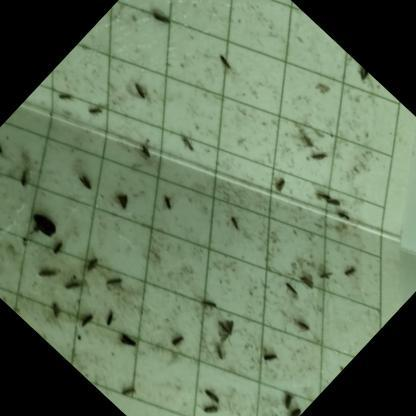prays_oleae: (114, 74, 162, 121), (200, 42, 247, 88), (94, 256, 137, 300), (282, 307, 324, 350), (52, 266, 93, 309), (66, 162, 106, 200), (325, 198, 363, 238), (103, 180, 141, 219), (299, 137, 337, 175), (187, 284, 224, 320), (156, 324, 192, 361), (30, 254, 66, 290), (270, 274, 305, 310), (110, 322, 145, 357), (199, 337, 234, 372), (44, 78, 78, 114), (207, 308, 242, 342), (76, 92, 110, 126), (290, 125, 324, 159), (143, 0, 178, 33), (130, 133, 163, 167), (288, 262, 321, 296), (330, 258, 364, 290), (197, 378, 230, 410), (152, 189, 184, 221), (171, 132, 203, 164), (9, 160, 41, 192), (112, 372, 144, 404), (262, 171, 293, 203), (274, 385, 305, 416), (316, 188, 347, 219), (311, 262, 341, 292), (69, 305, 98, 335), (217, 209, 247, 238), (39, 298, 68, 326), (308, 180, 336, 209), (252, 344, 280, 372), (0, 125, 19, 162), (44, 233, 69, 260), (98, 310, 124, 334), (192, 399, 224, 416), (348, 64, 371, 87), (281, 400, 306, 416), (0, 235, 7, 267)
